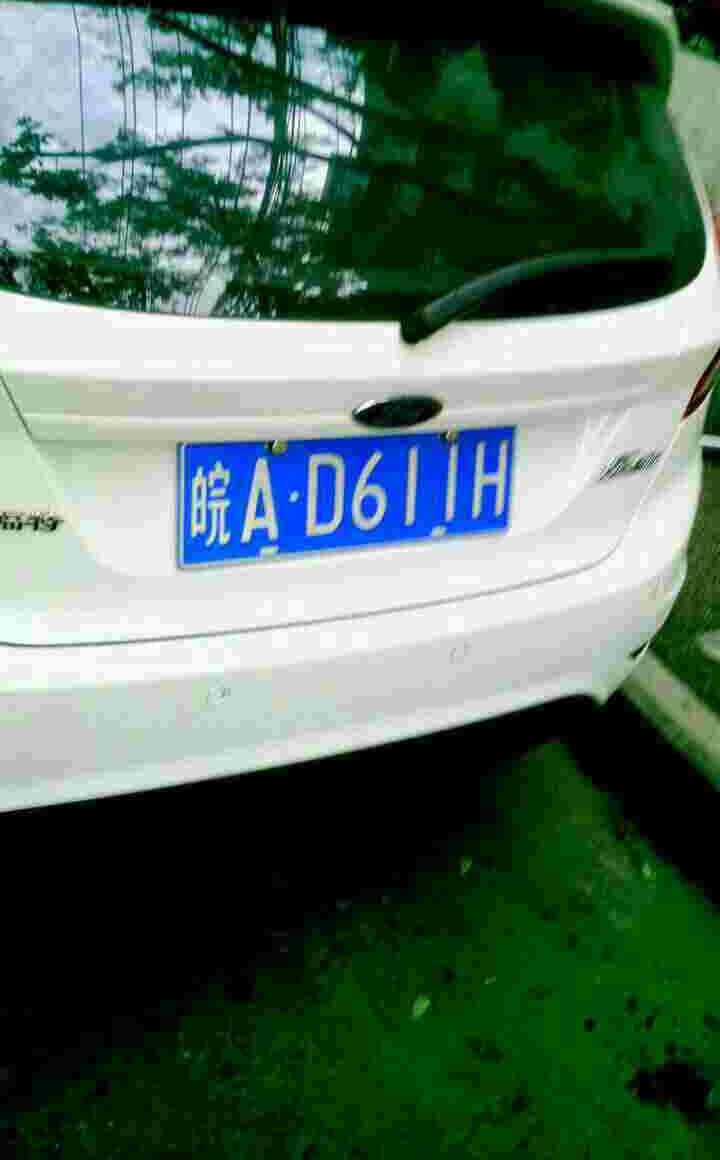license_plate: (186, 428, 512, 564)
